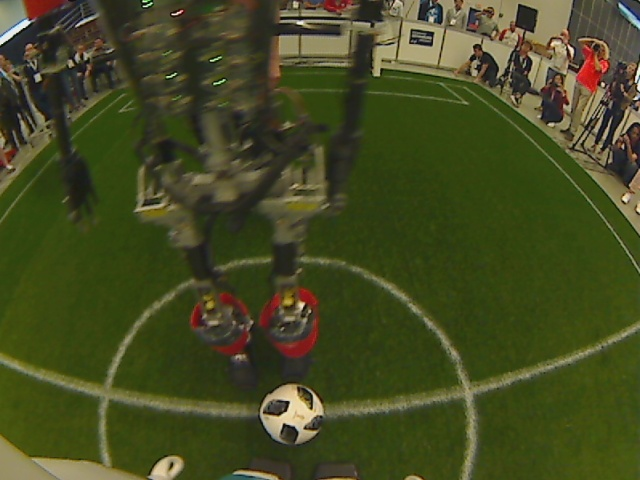ball: (256, 381, 329, 450)
